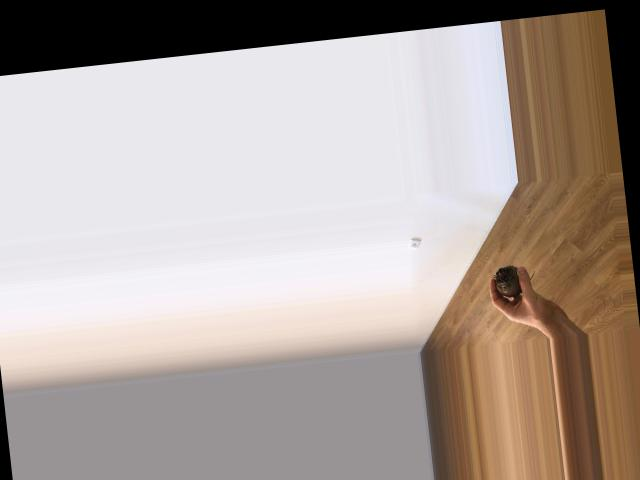beet: (492, 262, 536, 298)
